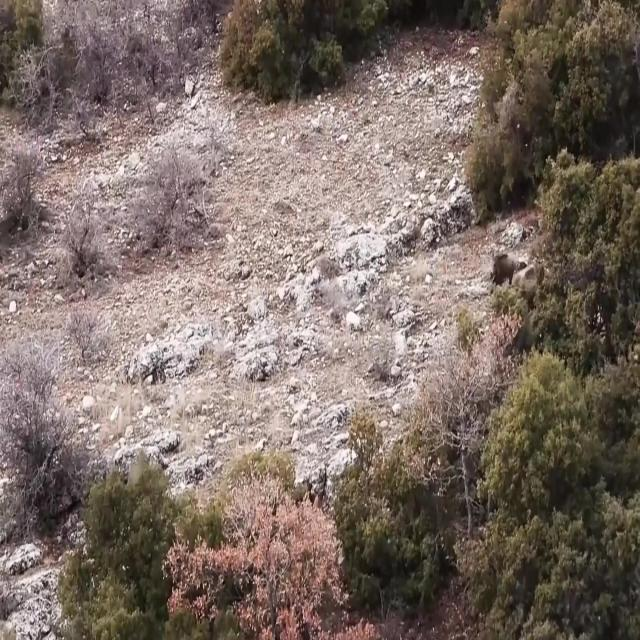pig: (485, 243, 522, 310)
